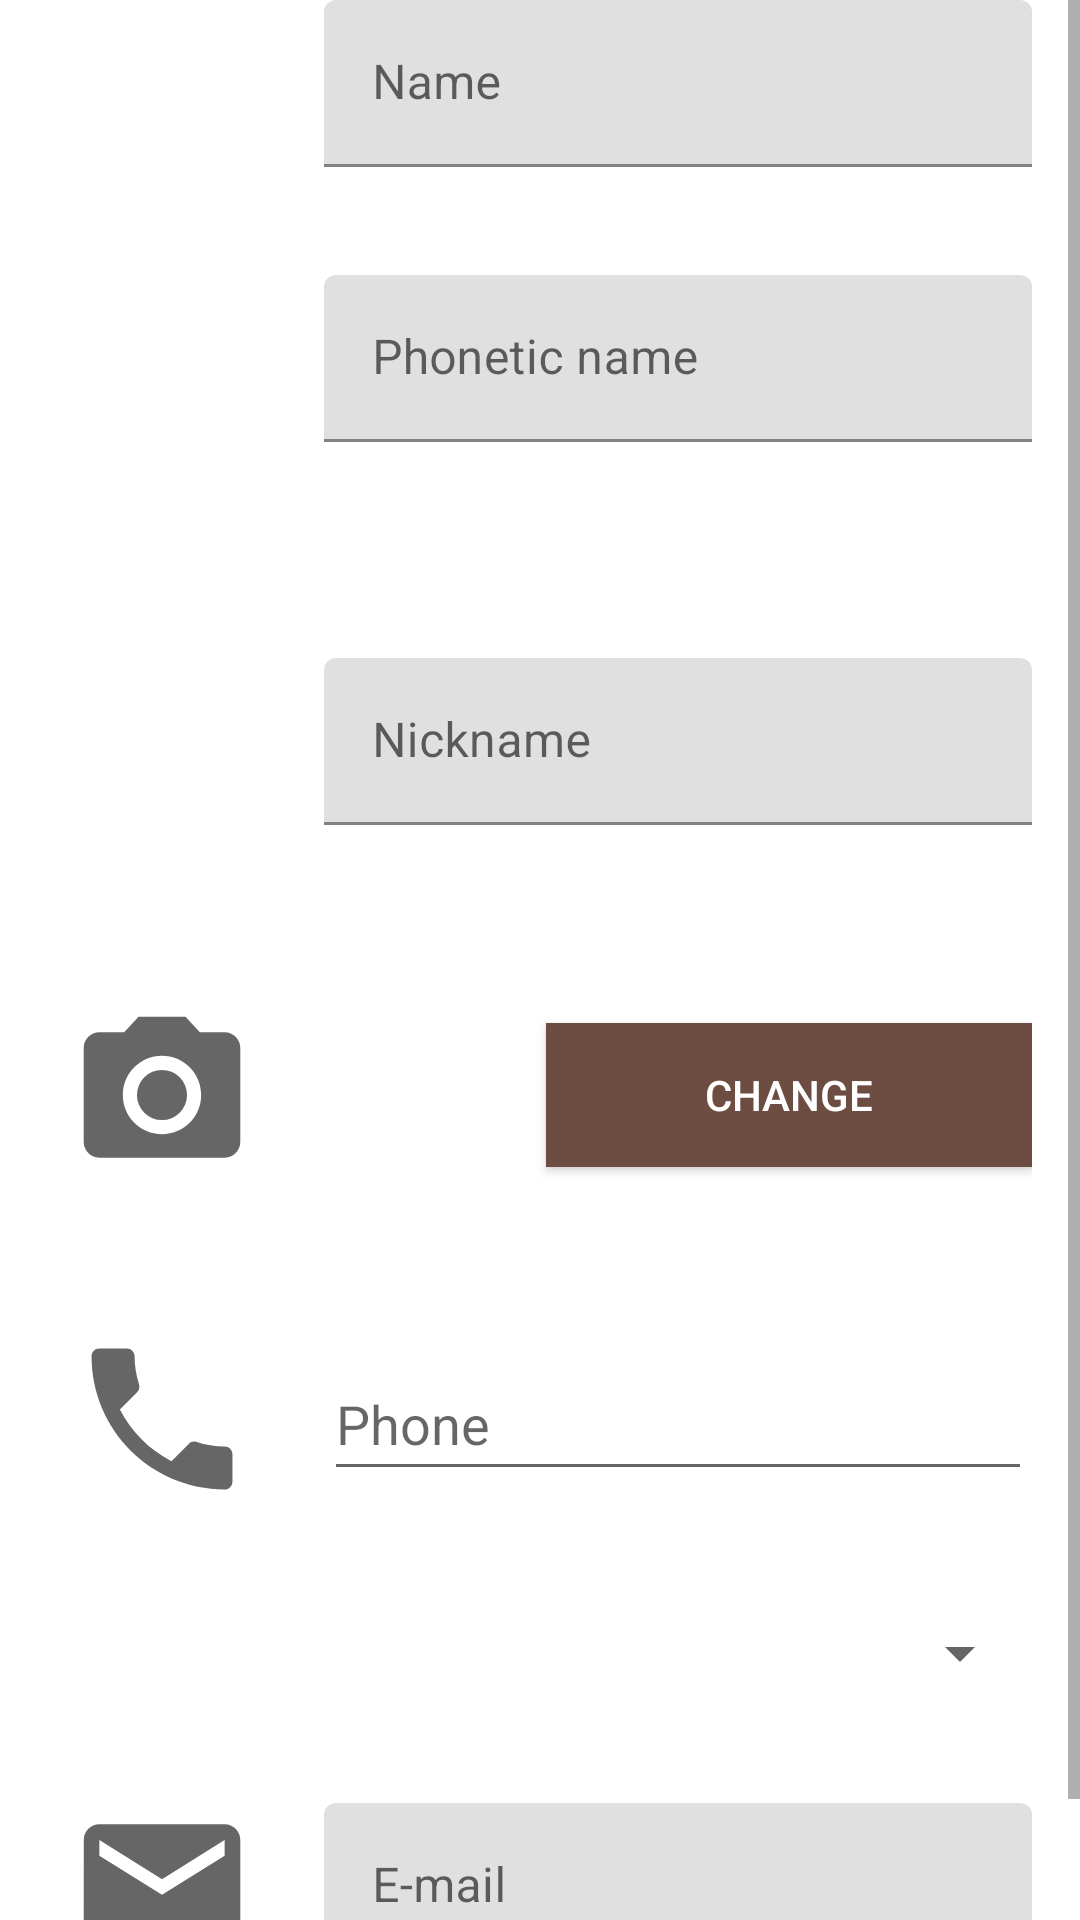

Screen size 1080×1920. Icon name, then its center in pixels as point (x, y):
camera: point (162, 1087)
